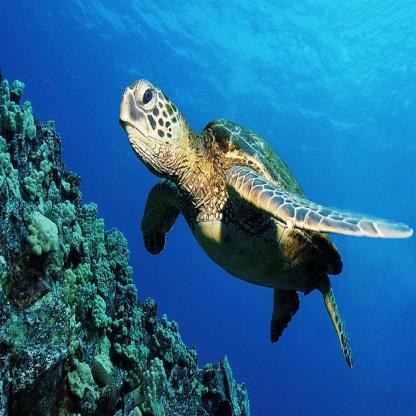turtle: (113, 69, 180, 182)
